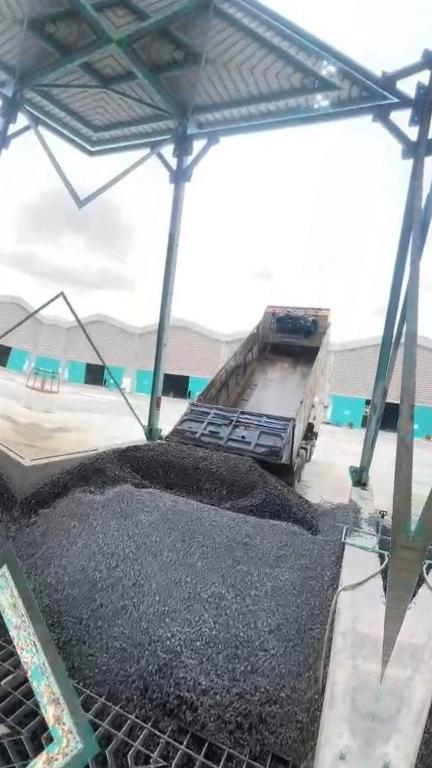gravel: (13, 453, 364, 766), (58, 441, 318, 533), (0, 603, 11, 642)
sand: (28, 422, 70, 457)
